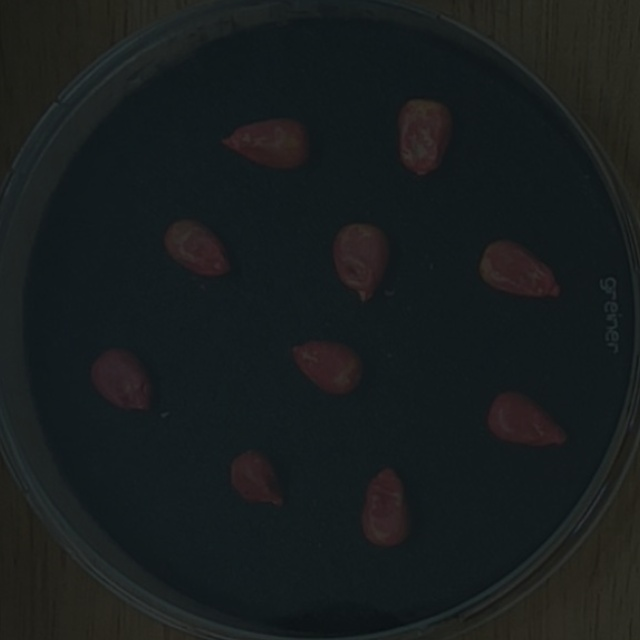Zea mays: (471, 229, 569, 307), (216, 109, 318, 181), (479, 381, 575, 457), (326, 215, 398, 312), (153, 208, 240, 287), (282, 331, 372, 407), (82, 341, 162, 422), (390, 92, 460, 181), (356, 457, 418, 553), (222, 441, 295, 516)
